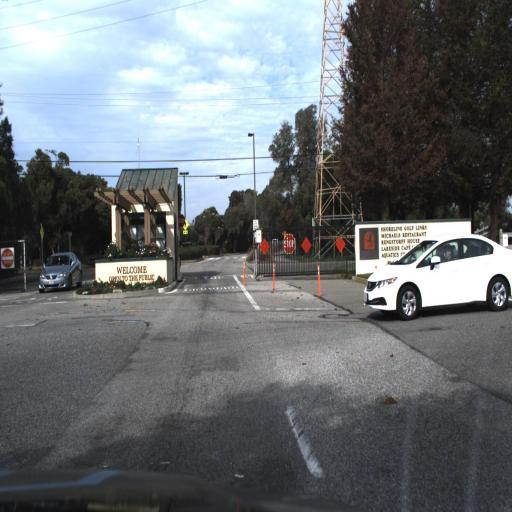car: (358, 225, 511, 322), (36, 249, 84, 289)
